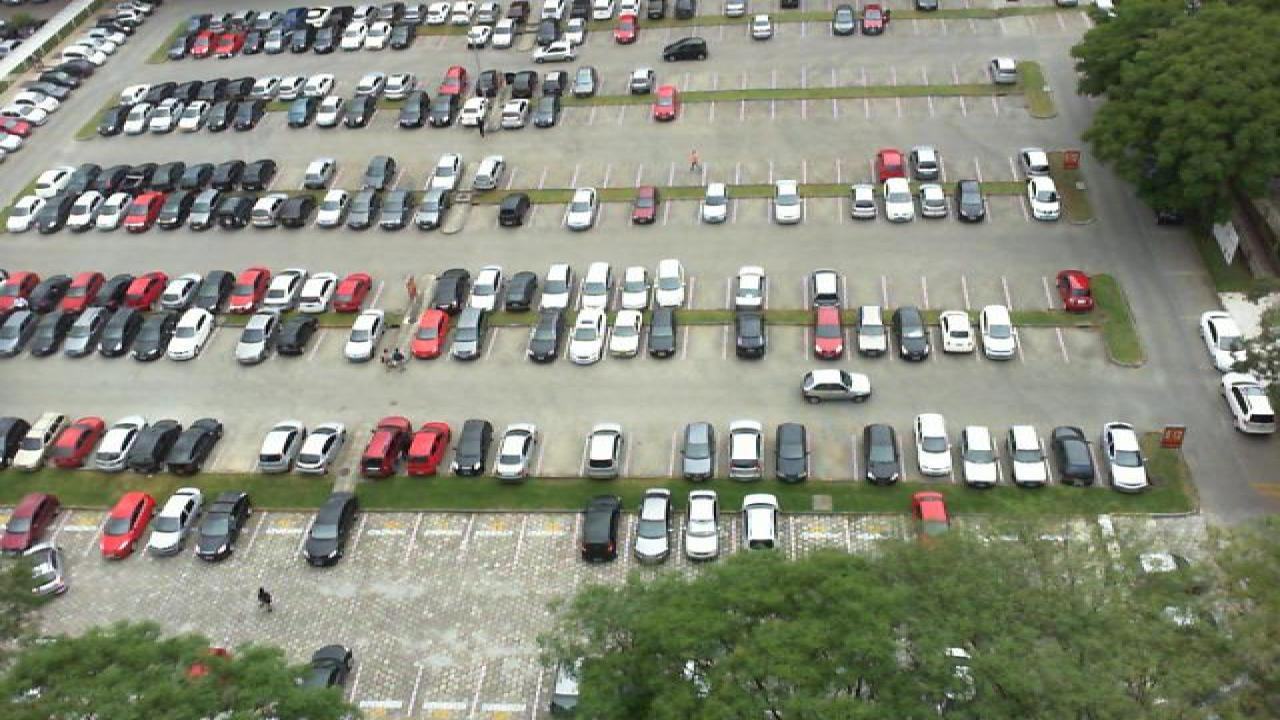Car: (1220, 365, 1280, 433), (98, 492, 156, 560), (196, 490, 248, 562), (306, 494, 358, 566), (0, 492, 60, 554), (152, 487, 202, 555), (1100, 421, 1150, 489), (128, 419, 186, 474), (1048, 425, 1100, 486), (912, 412, 956, 484), (166, 419, 222, 474), (362, 417, 412, 476), (1198, 310, 1252, 364), (578, 495, 622, 560), (1002, 424, 1048, 486), (680, 489, 720, 560), (90, 420, 144, 472), (164, 304, 214, 360), (630, 488, 670, 557), (30, 413, 78, 470), (54, 415, 106, 467), (256, 424, 310, 473), (564, 306, 608, 366), (860, 423, 902, 485), (294, 424, 346, 474), (402, 423, 452, 475), (800, 368, 872, 404), (448, 420, 494, 476), (492, 424, 538, 480), (580, 424, 626, 480), (958, 425, 1000, 486), (28, 307, 74, 360), (678, 422, 718, 482), (740, 493, 782, 550), (910, 490, 956, 542), (0, 414, 44, 468), (728, 422, 768, 481), (62, 308, 108, 358), (774, 422, 812, 482), (526, 307, 568, 361), (128, 308, 174, 357), (96, 308, 140, 358), (340, 312, 384, 362), (450, 305, 490, 360), (978, 305, 1018, 358), (2, 190, 50, 234), (606, 307, 646, 359), (232, 313, 274, 362), (1022, 172, 1064, 221), (810, 305, 848, 359), (936, 307, 974, 361), (274, 312, 318, 358), (894, 307, 932, 360), (0, 307, 40, 357), (410, 307, 450, 357), (228, 266, 270, 312), (262, 266, 304, 312), (36, 189, 80, 232), (1054, 269, 1096, 314), (732, 307, 768, 358), (646, 308, 682, 358), (856, 305, 890, 357), (16, 271, 58, 313), (120, 271, 162, 313), (538, 266, 578, 310), (66, 190, 110, 230), (654, 260, 690, 308), (54, 271, 96, 312), (158, 269, 200, 310), (88, 270, 128, 313), (296, 271, 336, 314), (96, 190, 138, 230), (730, 266, 768, 310), (190, 270, 230, 310), (616, 266, 654, 308), (124, 190, 162, 232), (468, 266, 504, 310), (882, 176, 916, 222), (336, 272, 374, 313), (502, 271, 540, 312), (562, 189, 598, 232), (580, 262, 614, 307), (698, 179, 732, 224), (182, 190, 220, 230), (212, 190, 250, 230), (246, 190, 284, 230), (314, 189, 352, 229), (806, 270, 844, 309), (432, 269, 468, 310), (376, 190, 412, 231), (436, 191, 472, 232), (154, 192, 192, 230), (772, 180, 804, 223), (408, 189, 442, 229), (426, 151, 460, 190), (532, 35, 580, 62), (846, 180, 878, 220), (346, 192, 380, 229), (0, 270, 32, 309), (660, 36, 708, 62), (918, 182, 952, 218), (362, 155, 396, 190), (472, 154, 506, 189), (36, 169, 74, 200), (498, 192, 532, 226), (874, 148, 908, 182), (64, 161, 98, 195), (286, 191, 318, 227), (630, 184, 660, 222), (910, 147, 944, 180), (478, 96, 506, 135), (302, 158, 336, 190), (426, 94, 458, 128), (456, 97, 490, 129), (124, 99, 154, 135), (436, 66, 466, 102), (960, 183, 992, 216), (200, 161, 234, 192), (100, 101, 130, 136), (652, 86, 682, 121), (90, 162, 124, 192), (152, 100, 182, 134), (178, 100, 208, 134), (146, 162, 178, 192), (252, 159, 282, 191), (286, 97, 318, 127), (382, 72, 414, 102), (474, 69, 506, 99), (118, 163, 152, 191), (228, 161, 258, 192), (340, 96, 370, 127), (500, 96, 530, 127), (174, 162, 206, 191), (344, 22, 374, 52), (232, 97, 260, 129), (532, 95, 560, 127), (988, 56, 1020, 84), (570, 65, 598, 97), (506, 70, 536, 99), (206, 100, 234, 131), (860, 3, 888, 34), (456, 16, 484, 47), (314, 97, 342, 127), (400, 97, 428, 127), (356, 74, 386, 102), (830, 7, 858, 37), (612, 11, 638, 43), (292, 23, 320, 52), (488, 18, 516, 47), (240, 26, 268, 54), (266, 25, 294, 53), (368, 22, 396, 50), (538, 68, 564, 98), (130, 78, 158, 105), (306, 73, 334, 100), (318, 24, 344, 52), (542, 16, 568, 44), (280, 73, 306, 100), (190, 30, 216, 57), (748, 14, 774, 40), (216, 29, 242, 55), (156, 78, 182, 103), (206, 77, 232, 102), (230, 77, 258, 100), (254, 77, 282, 100), (180, 78, 206, 102)
